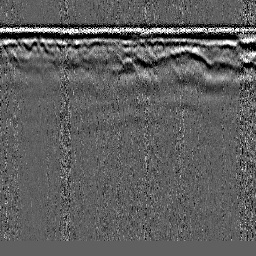cavity: (114, 57, 140, 80)
